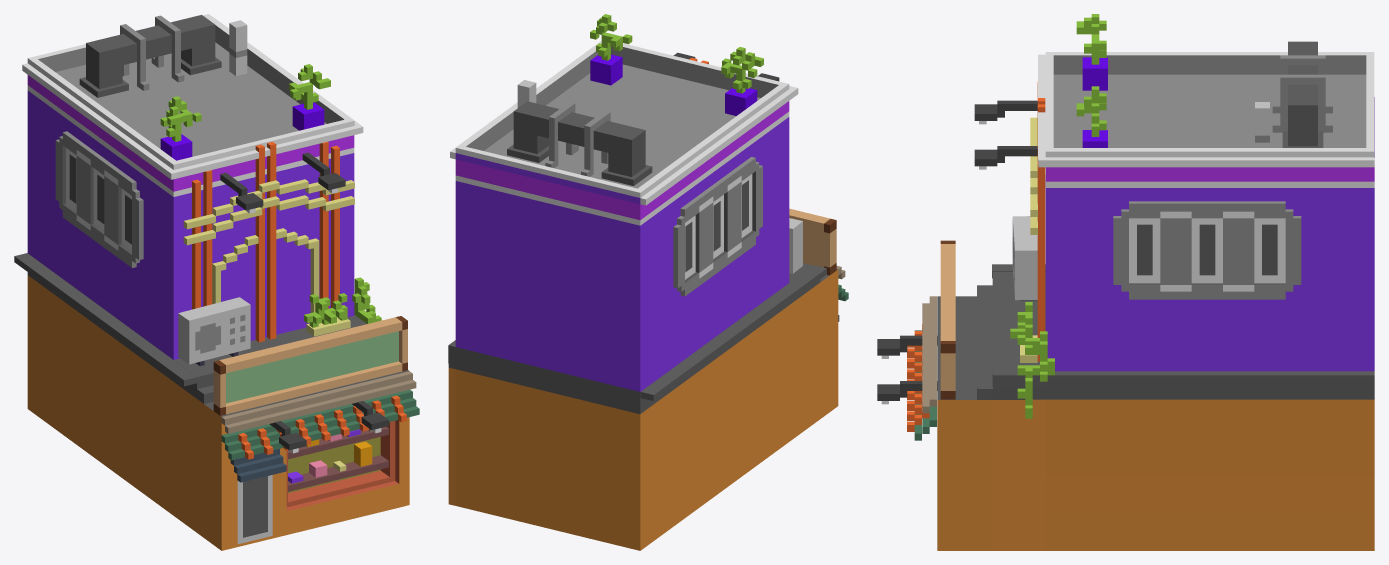
Rendered from Building_2.FBX.
The picture shows the model from 3 angles, left to right: view 1: azimuth 30°, elevation 25°; view 2: azimuth 150°, elevation 25°; view 3: azimuth 270°, elevation 25°; orthographic projection. The views are drawn at different scales.
Visible parts, largest first — view 1: Building_2; view 2: Building_2; view 3: Building_2.
Boxes of the visible parts, bbox=[...] form: Building_2: bbox=[14, 14, 419, 550]; Building_2: bbox=[448, 14, 848, 550]; Building_2: bbox=[877, 14, 1374, 550].
Bounding box in the file's own units: 73.47 × 131 × 132.
1 material, 1 textured.
